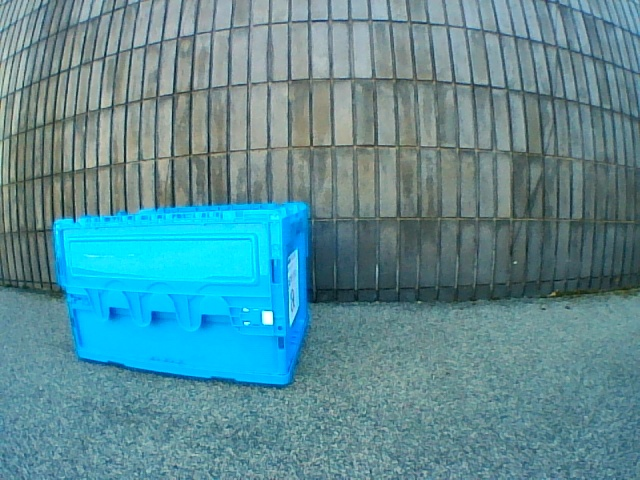blue_box: (54, 203, 307, 386)
tag: (290, 259, 296, 311)
